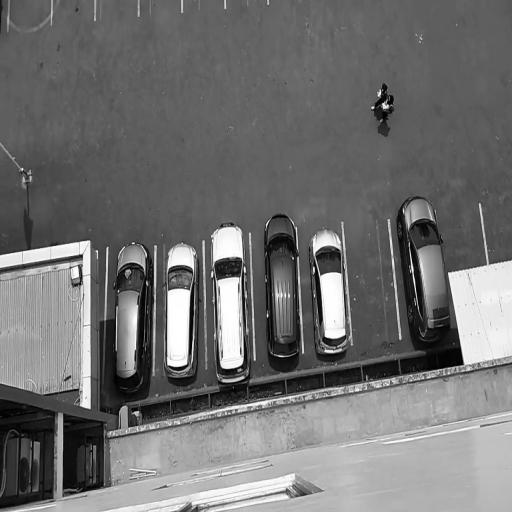Car: (395, 188, 458, 355), (208, 216, 254, 395), (107, 237, 156, 403), (260, 211, 302, 372), (159, 235, 201, 387), (307, 220, 352, 360), (139, 0, 182, 17)
Space Available: (344, 222, 400, 344), (436, 203, 487, 269), (480, 199, 512, 265)
